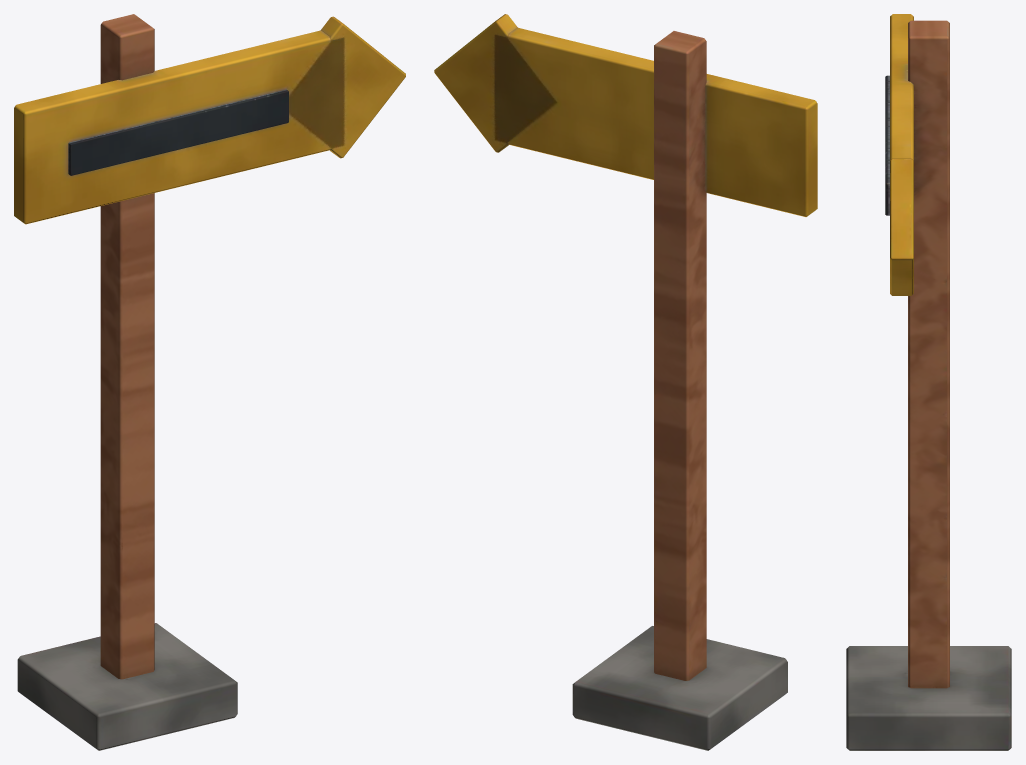
The model's file is arrow_sign_post.glb.
The picture shows the model from 3 angles, left to right: view 1: azimuth 30°, elevation 25°; view 2: azimuth 150°, elevation 25°; view 3: azimuth 270°, elevation 25°; orthographic projection. The views are drawn at different scales.
Parts seen in each view (by area): view 1: ArrowSignPost; view 2: ArrowSignPost; view 3: ArrowSignPost.
Part boxes in pixels (x1,y1,x2,y2): ArrowSignPost: [14, 14, 405, 750]; ArrowSignPost: [434, 14, 817, 750]; ArrowSignPost: [846, 14, 1011, 750].
Size of the model in its own units: 1.48 by 2.52 by 0.5499.
1 material, 1 textured.
